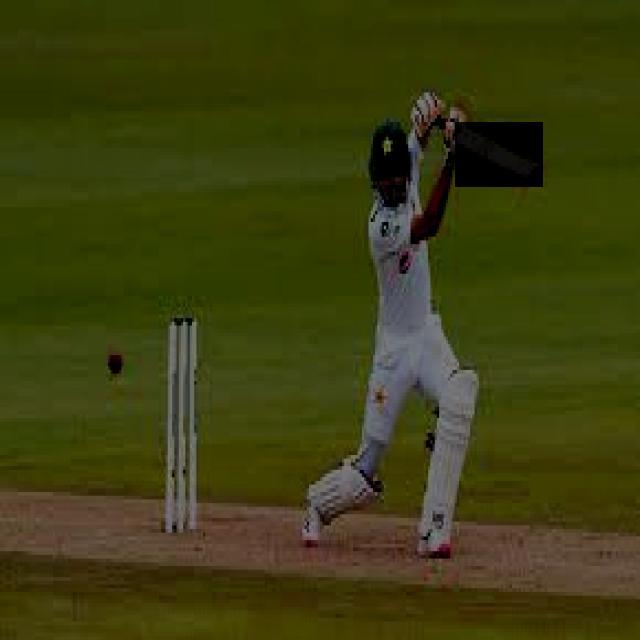bat: (456, 121, 545, 189)
toe: (523, 163, 546, 187)
